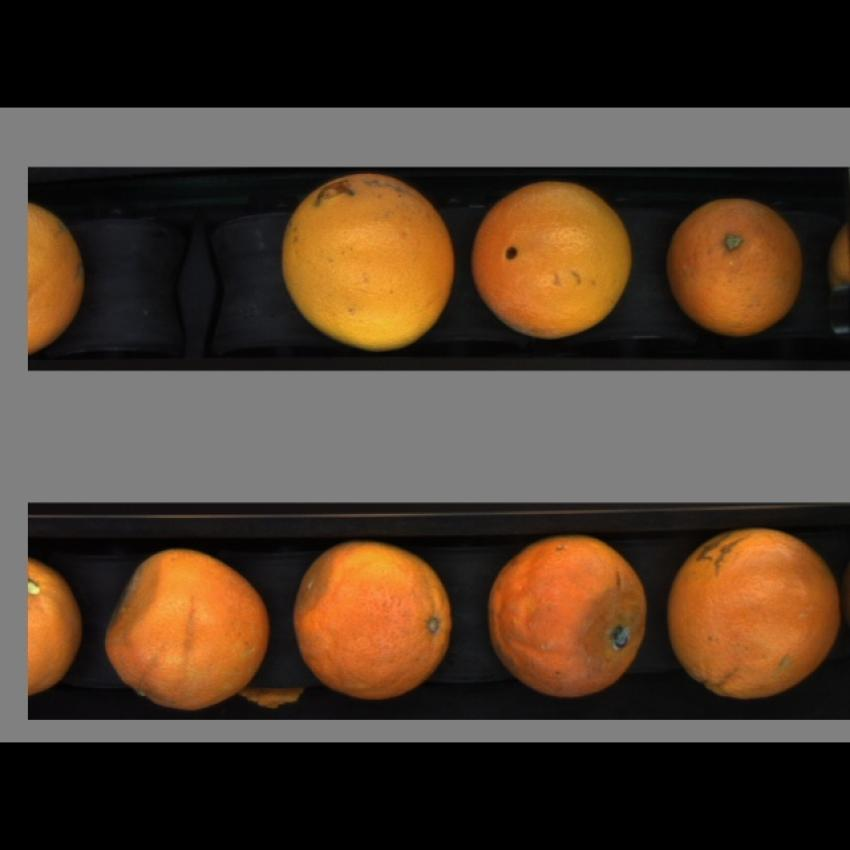Buen estado: (469, 172, 635, 346), (30, 193, 91, 355)
Mal estado: (668, 526, 846, 707), (281, 171, 455, 354), (100, 547, 279, 714), (292, 535, 464, 706), (487, 532, 653, 702), (664, 185, 805, 345), (29, 552, 87, 704)
